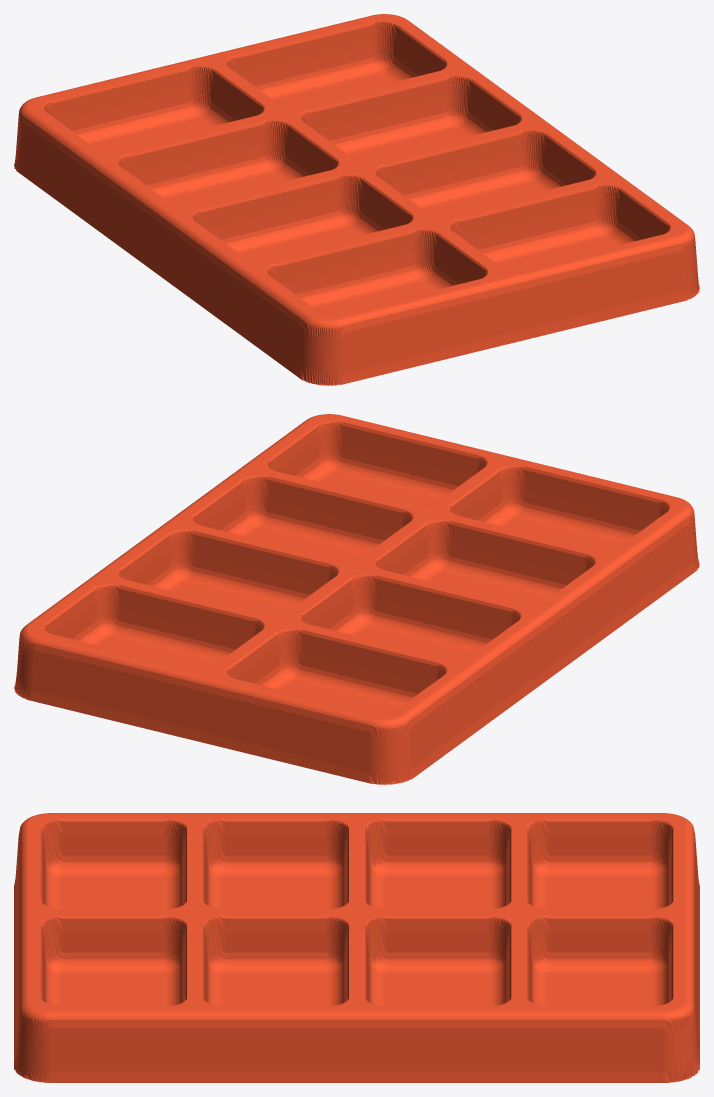
File: mold.glb
3 renders of one model, top to bottom at view 1: azimuth 30°, elevation 25°; view 2: azimuth 150°, elevation 25°; view 3: azimuth 270°, elevation 25°, orthographic. The views are drawn at different scales.
Visible parts, largest first — view 1: geometry_0; view 2: geometry_0; view 3: geometry_0.
Part boxes in pixels (x1,y1,x2,y2): geometry_0: (14, 14, 699, 385); geometry_0: (14, 414, 699, 784); geometry_0: (14, 813, 699, 1082).
Size of the model in its own units: 0.1209 by 0.0175 by 0.1668.
